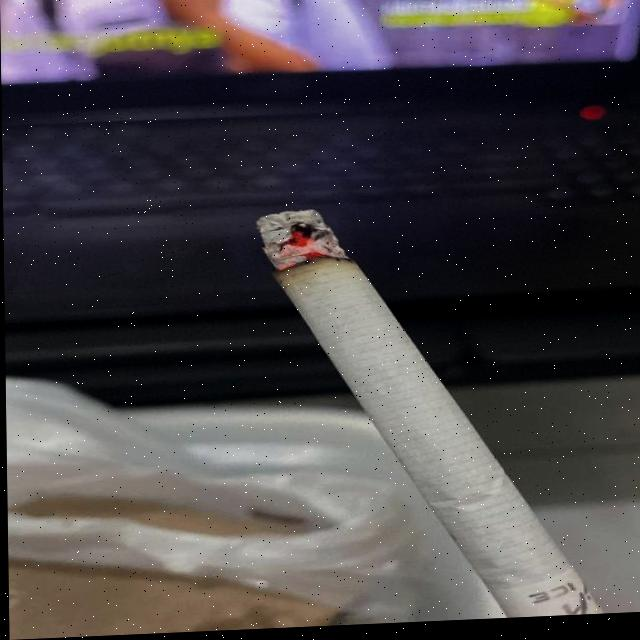cigarette: (254, 202, 603, 631)
